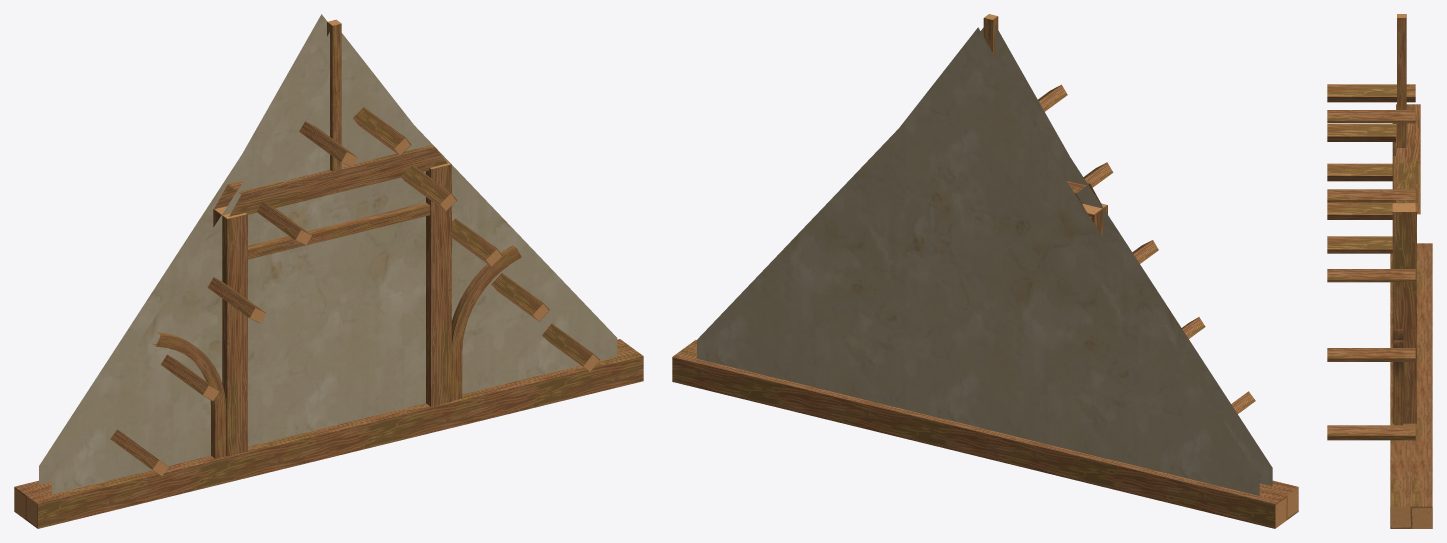
The model's file is roof-qm-rooffrontbrick6.glb.
The picture shows the model from 3 angles, left to right: view 1: azimuth 30°, elevation 25°; view 2: azimuth 150°, elevation 25°; view 3: azimuth 270°, elevation 25°; orthographic projection. The views are drawn at different scales.
Visible parts, largest first — view 1: Cube_101; view 2: Cube_101; view 3: Cube_101.
Part boxes in pixels (left/top/right/bottom): Cube_101: left=14, top=14, right=643, bottom=528; Cube_101: left=672, top=14, right=1298, bottom=528; Cube_101: left=1327, top=14, right=1432, bottom=528.
Bounding box in the file's own units: 6.69 × 4.52 × 1.13.
2 materials, 2 textured.
